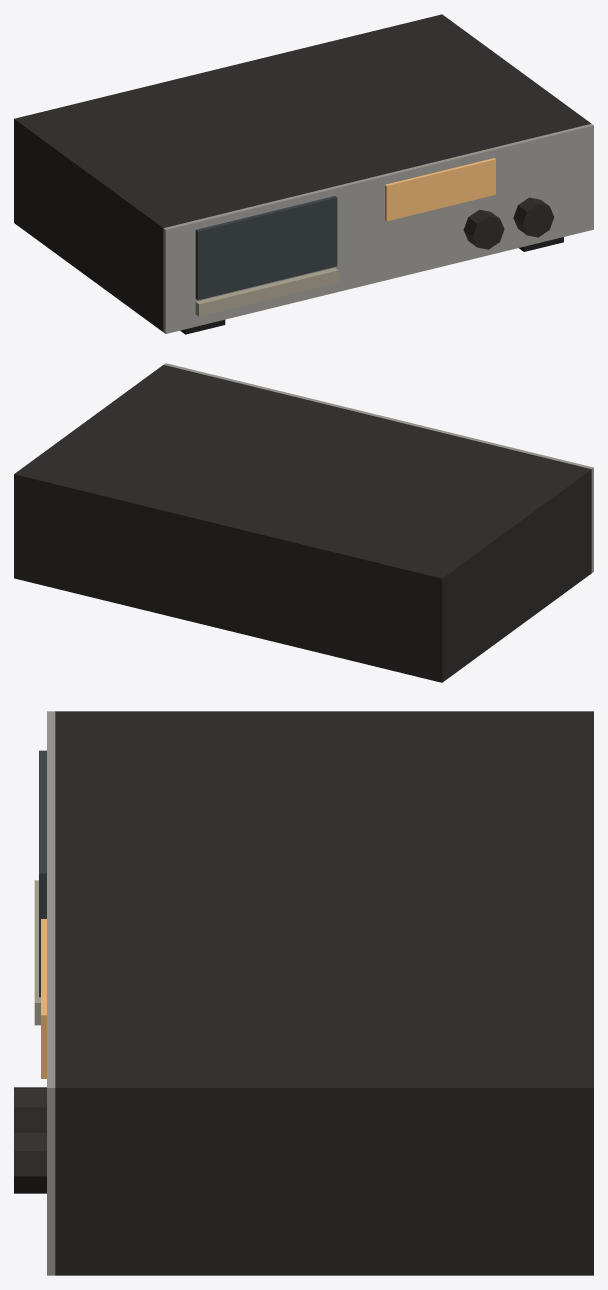
The model's file is cassette-deck-single.glb.
3 renders of one model, top to bottom at view 1: azimuth 30°, elevation 25°; view 2: azimuth 150°, elevation 25°; view 3: azimuth 270°, elevation 25°, orthographic. The views are drawn at different scales.
Visible parts, largest first — view 1: plastic-dark, brushed, glass, emissive-warm, plastic-light, rubber; view 2: plastic-dark, brushed; view 3: plastic-dark, brushed, glass, emissive-warm, plastic-light.
Part boxes in pixels (x1=…): plastic-dark: x1=14, y1=14, x2=591, y2=331; brushed: x1=163, y1=124, x2=593, y2=333; glass: x1=195, y1=196, x2=337, y2=300; emissive-warm: x1=385, y1=158, x2=495, y2=221; plastic-light: x1=195, y1=268, x2=338, y2=316; rubber: x1=180, y1=237, x2=563, y2=334; plastic-dark: x1=14, y1=365, x2=591, y2=682; brushed: x1=164, y1=363, x2=593, y2=572; plastic-dark: x1=14, y1=711, x2=593, y2=1275; brushed: x1=47, y1=711, x2=55, y2=1275; glass: x1=39, y1=750, x2=46, y2=997; emissive-warm: x1=41, y1=919, x2=46, y2=1078; plastic-light: x1=34, y1=880, x2=40, y2=1025.
Bounding box in the file's own units: 0.43 × 0.11 × 0.28.
